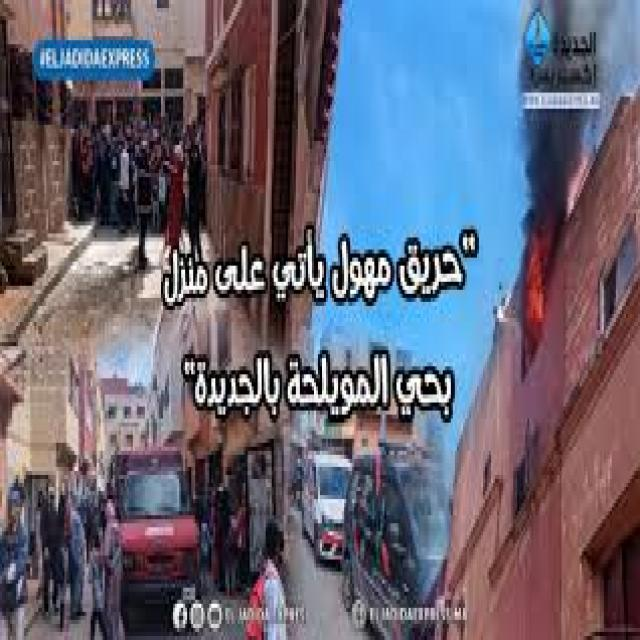ambulance: (107, 447, 200, 633)
police: (348, 434, 450, 640)
